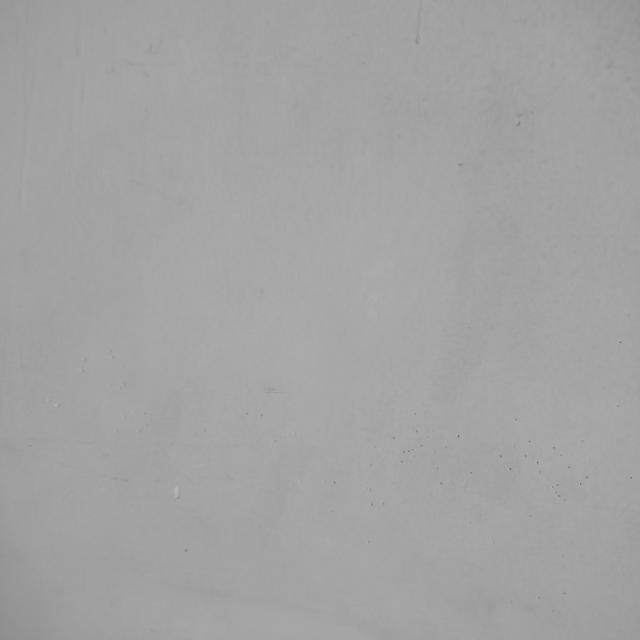rough and patchy surface: (10, 335, 350, 573), (406, 0, 632, 248), (353, 401, 636, 545)
